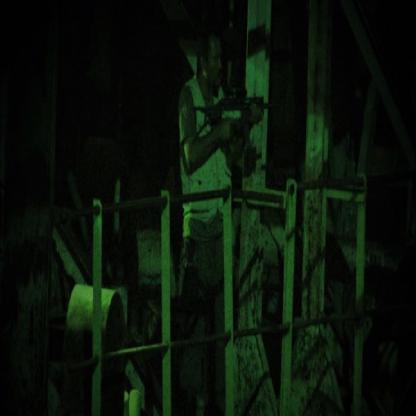Guns: (192, 90, 272, 152)
